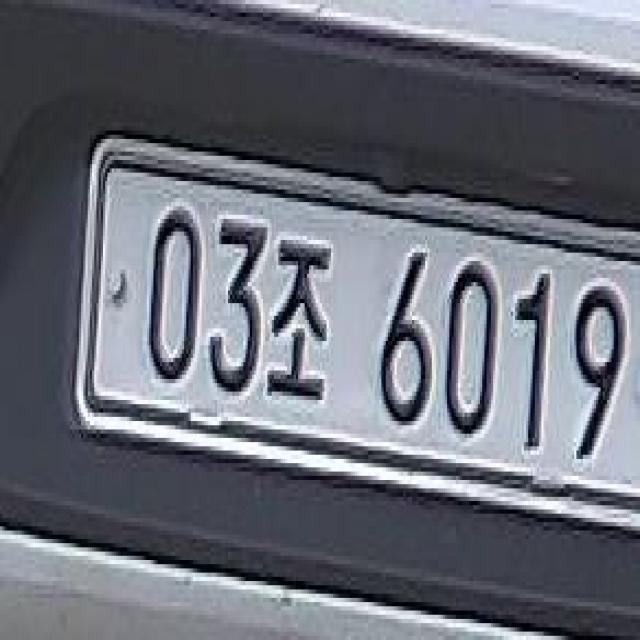illegal_plate: (86, 137, 640, 536)
